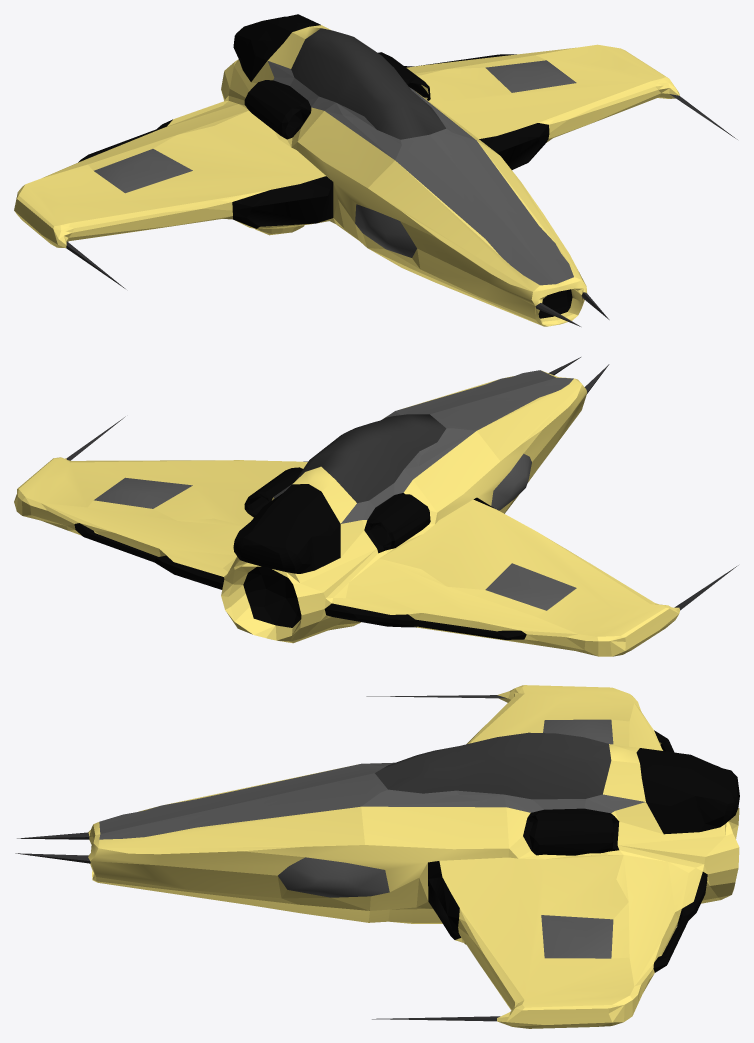
File: Dragonfly 1.fbx
3 renders of one model, top to bottom at view 1: azimuth 30°, elevation 25°; view 2: azimuth 150°, elevation 25°; view 3: azimuth 270°, elevation 25°, orthographic. The views are drawn at different scales.
Visible parts, largest first — view 1: Retopo_Mesh1.002; view 2: Retopo_Mesh1.002; view 3: Retopo_Mesh1.002.
Boxes of the visible parts, x1,y1,x2,y2 form: Retopo_Mesh1.002: (14, 14, 737, 326); Retopo_Mesh1.002: (14, 357, 738, 656); Retopo_Mesh1.002: (15, 685, 739, 1028).
Bounding box in the file's own units: 317 × 80.05 × 297.
